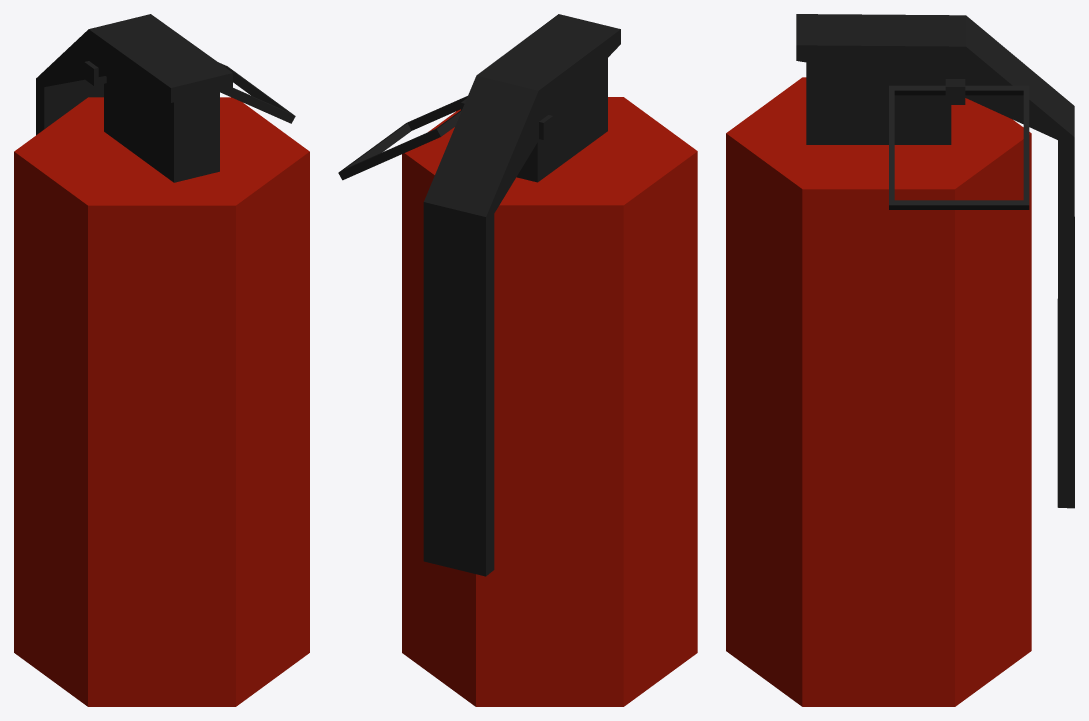
File: Grenade_Incendiary.fbx
3 views of the same model, side by side, from view 1: azimuth 30°, elevation 25°; view 2: azimuth 150°, elevation 25°; view 3: azimuth 270°, elevation 25° (orthographic). The views are drawn at different scales.
Visible parts, largest first — view 1: Grenade_Incendiary; view 2: Grenade_Incendiary; view 3: Grenade_Incendiary.
Part boxes in pixels (box(x1,y1,x2,y2)): Grenade_Incendiary: box(14, 14, 309, 706); Grenade_Incendiary: box(338, 14, 697, 706); Grenade_Incendiary: box(726, 14, 1074, 706).
Bounding box in the file's own units: 5.41 × 12.46 × 6.34.
